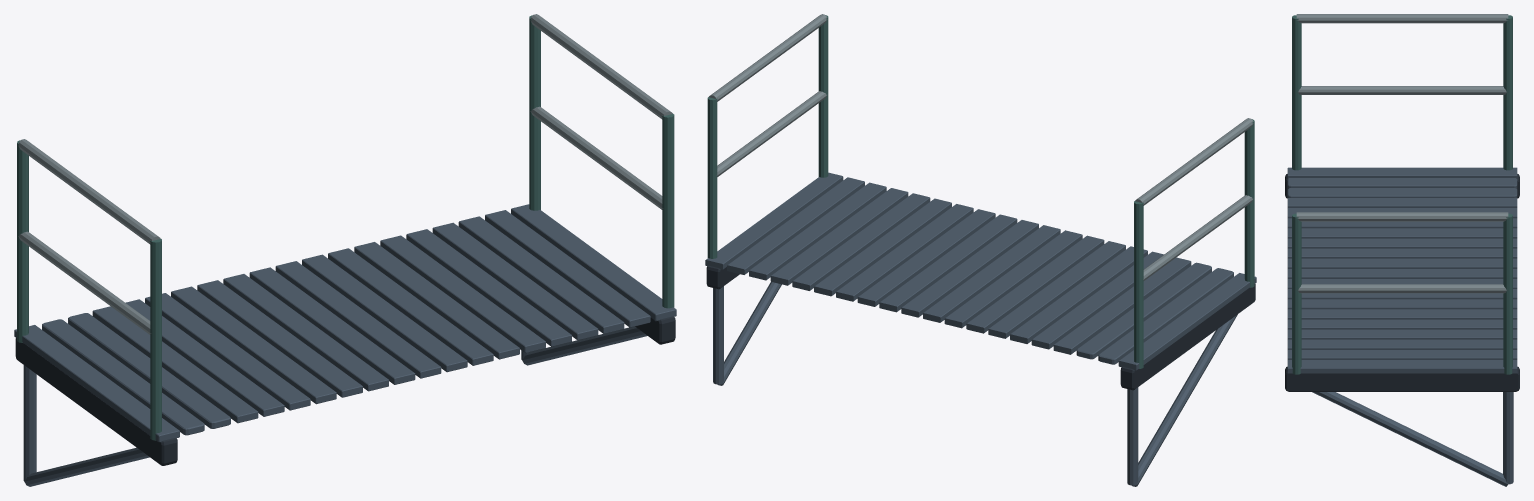
Rendered from F-04_ladder_landing.glb.
The picture shows the model from 3 angles, left to right: view 1: azimuth 30°, elevation 25°; view 2: azimuth 150°, elevation 25°; view 3: azimuth 270°, elevation 25°; orthographic projection. The views are drawn at different scales.
Visible parts, largest first — view 1: F-04_ladder_landing; view 2: F-04_ladder_landing; view 3: F-04_ladder_landing.
Boxes of the visible parts, x1=… form: F-04_ladder_landing: x1=14, y1=14, x2=676, y2=486; F-04_ladder_landing: x1=705, y1=14, x2=1256, y2=486; F-04_ladder_landing: x1=1285, y1=14, x2=1519, y2=486.
Bounding box in the file's own units: 2.9 × 1.84 × 1.42.
